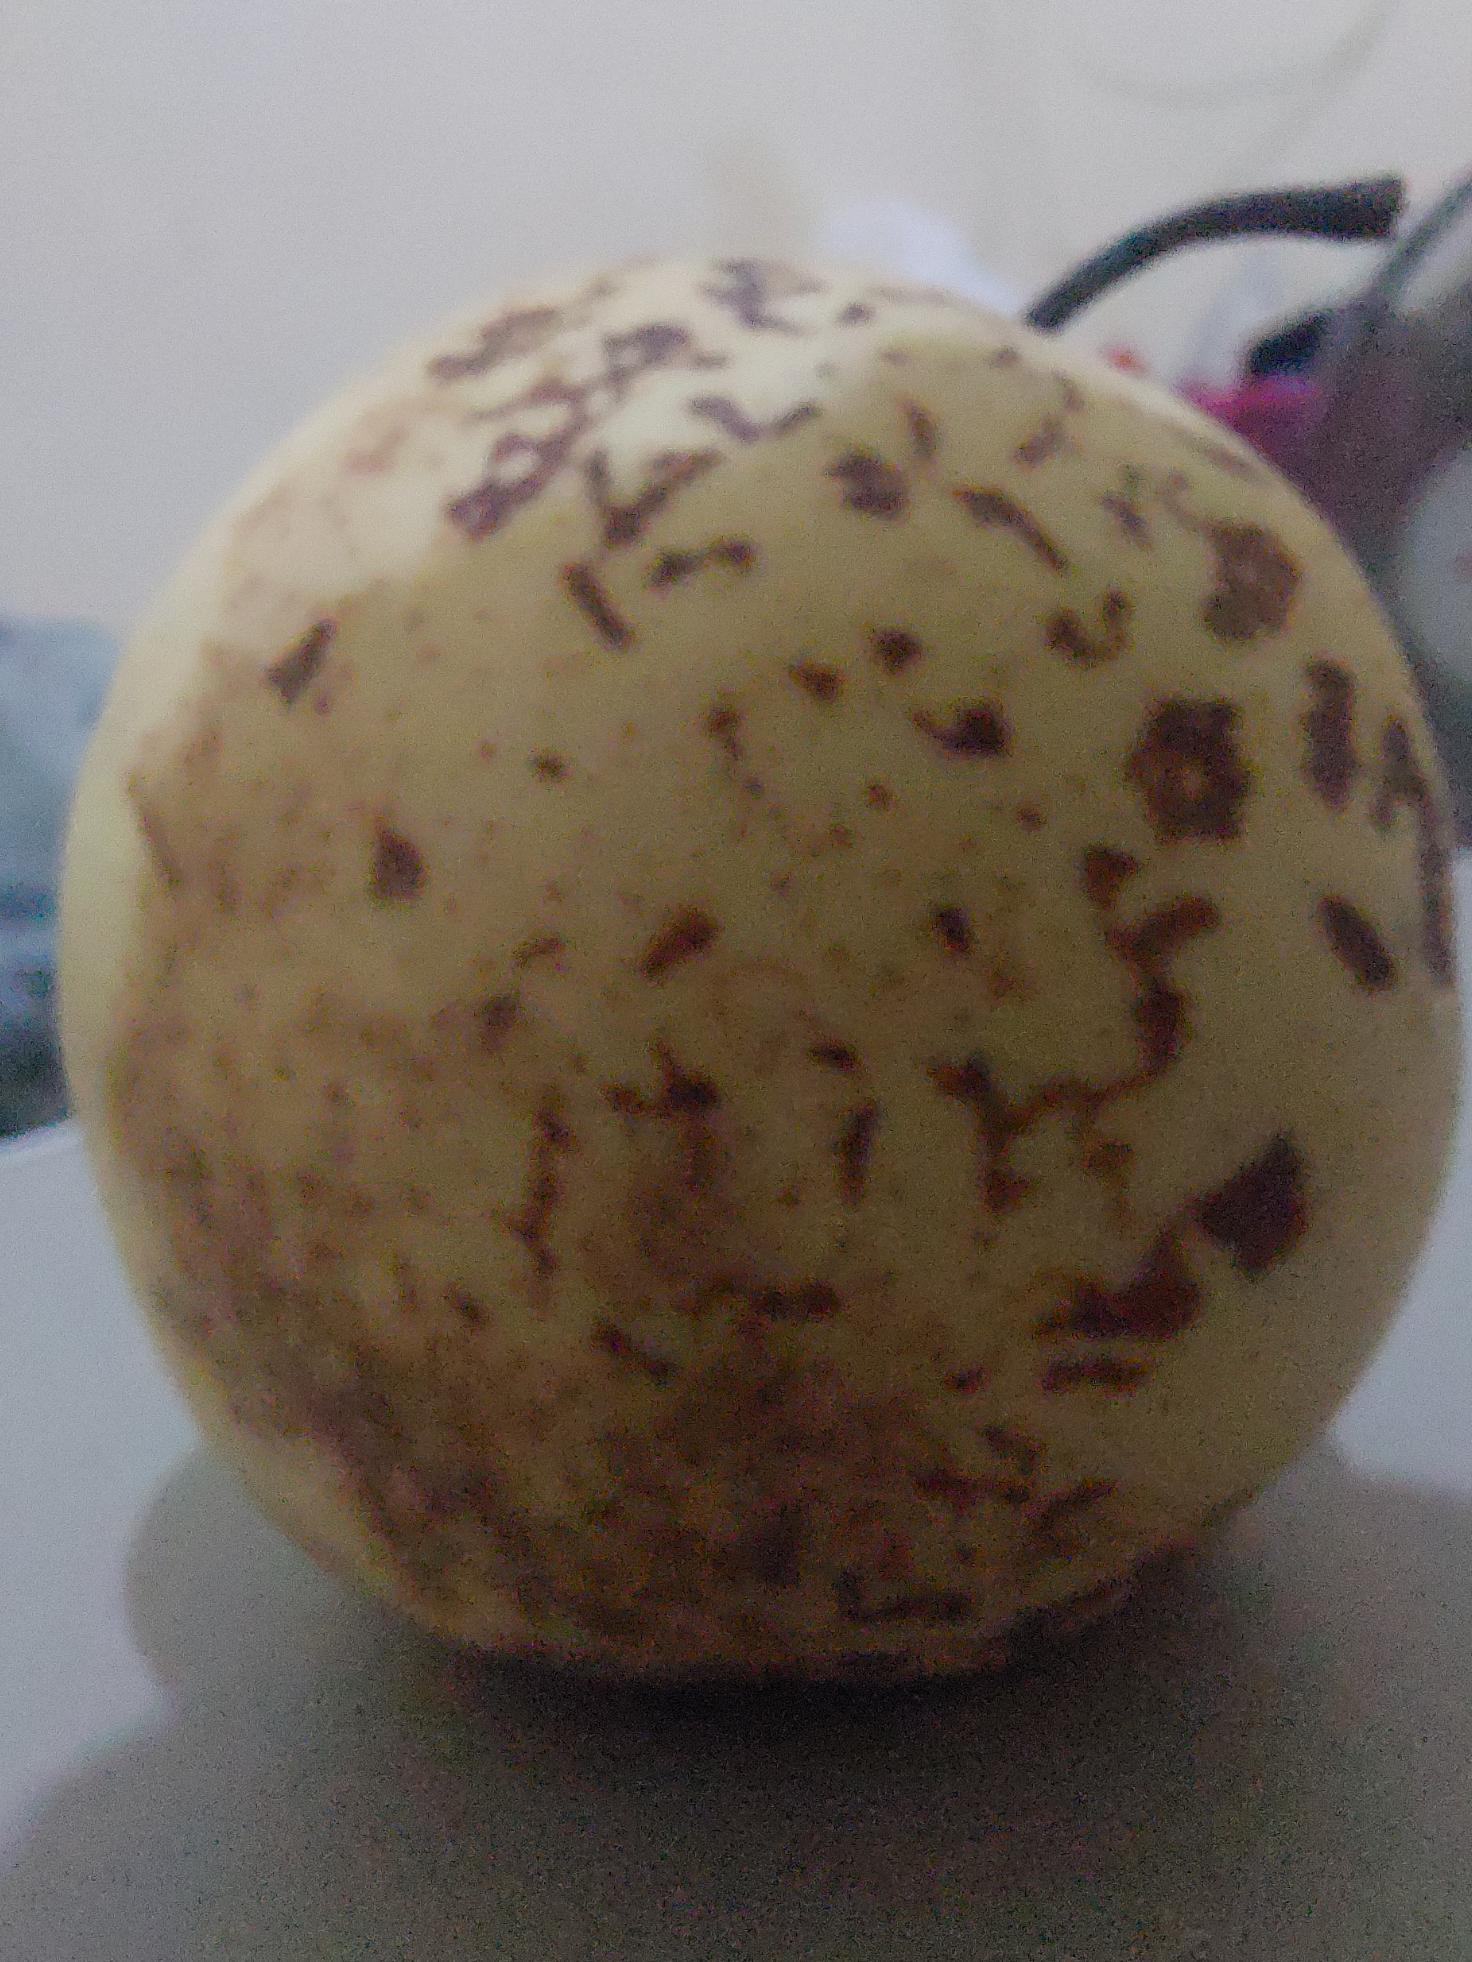Bad Pear: (74, 233, 1464, 1701)
